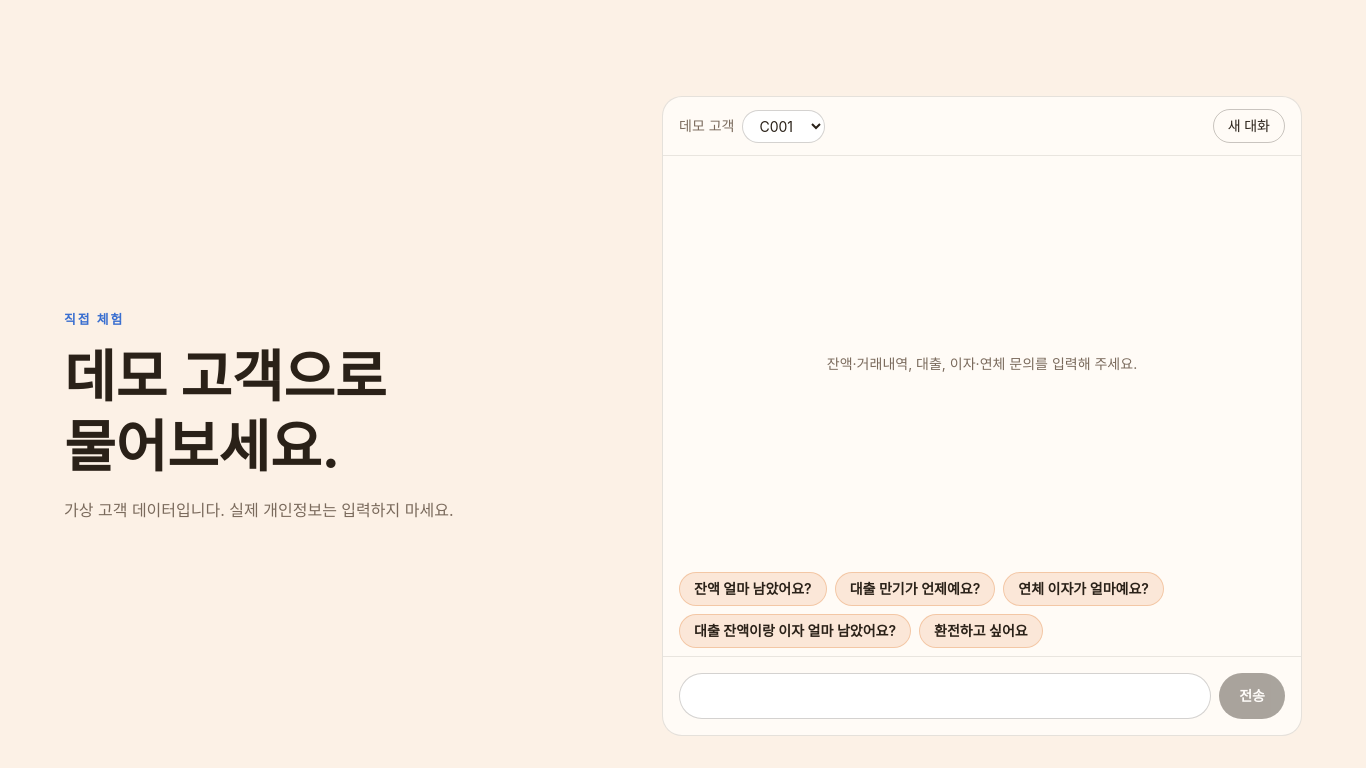
Page › 잔액 응답을 받으면 금액이 치환돼 보이고 {{가 남지 않는다
The width and height of the screenshot is (1366, 768).
Type "잔액 알려줘" into the field named "메시지" at (945, 696), box left=679, top=673, right=1211, bottom=719
Then press Enter
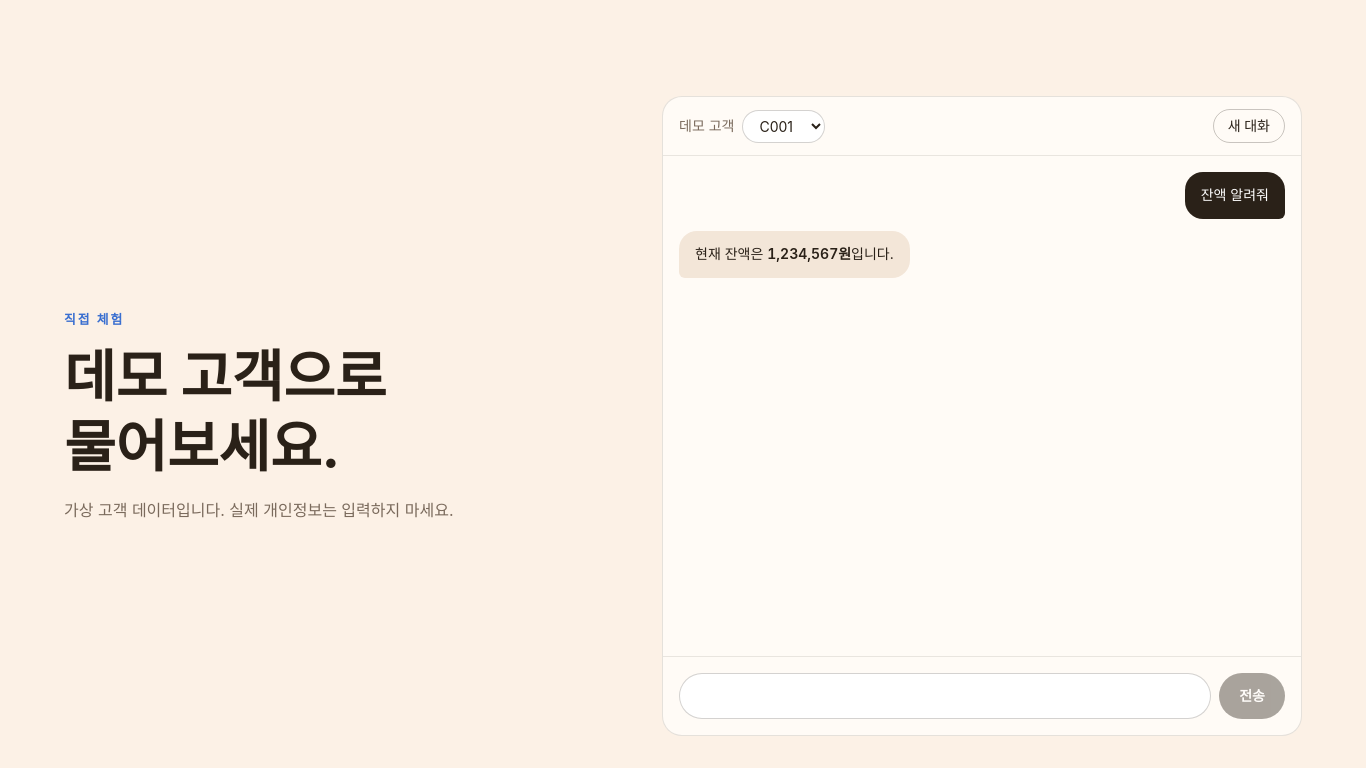
Expected: the text "1,234,567원" is shown, left=767, top=245, right=851, bottom=262
Expected: the text "잔액 알려줘" is shown, left=1185, top=172, right=1285, bottom=219
